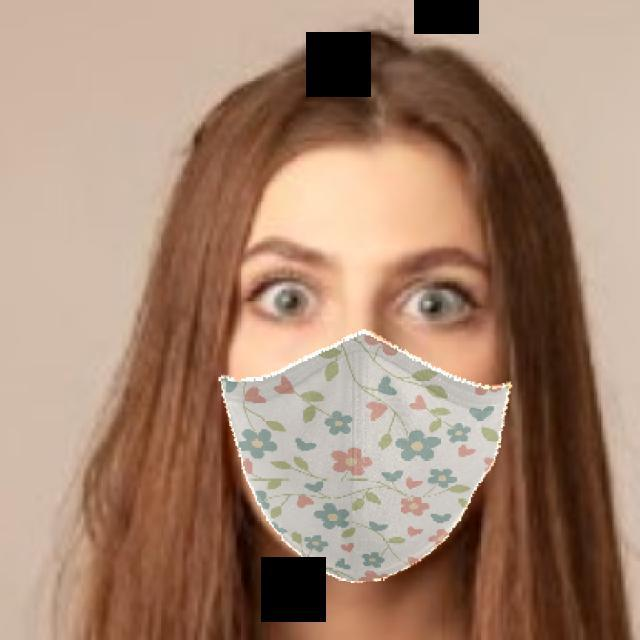mask: (217, 331, 512, 586)
